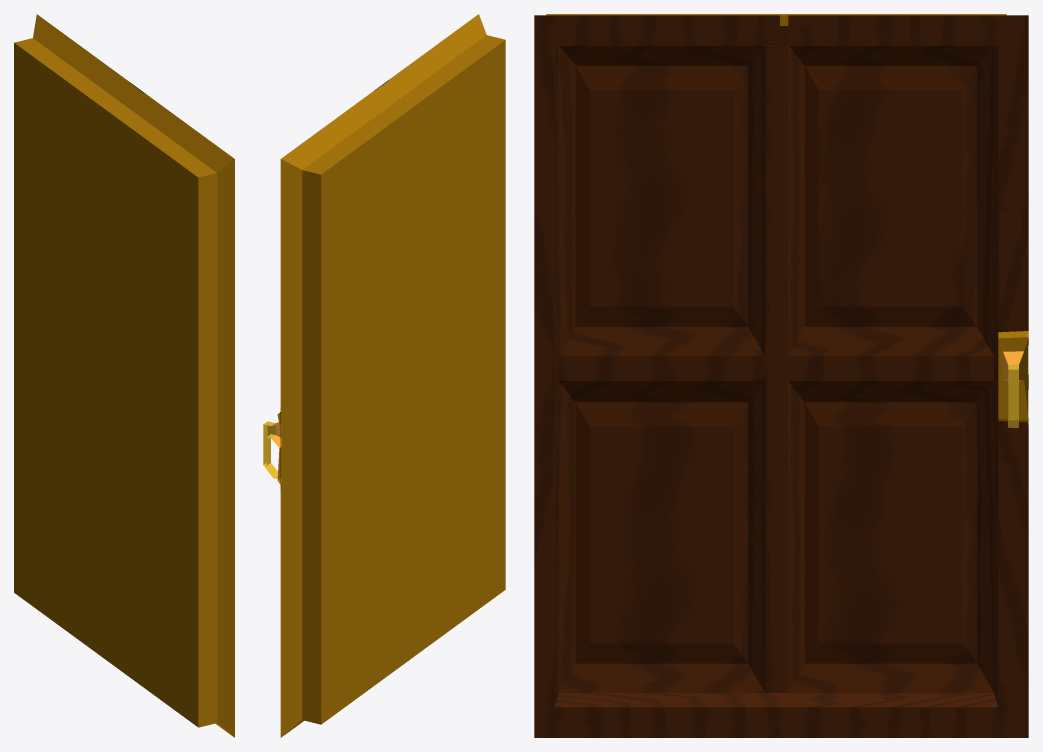
File: doorExitEnter.fbx
3 views of the same model, side by side, from view 1: azimuth 30°, elevation 25°; view 2: azimuth 150°, elevation 25°; view 3: azimuth 270°, elevation 25° (orthographic). The views are drawn at different scales.
Parts seen in each view (by area): view 1: Cube; view 2: Cube; view 3: Cube.
Part boxes in pixels (<box>): Cube: <box>14,14,234,737</box>; Cube: <box>263,14,505,737</box>; Cube: <box>534,14,1028,737</box>.
Bounding box in the file's own units: 60.09 × 629 × 390.
